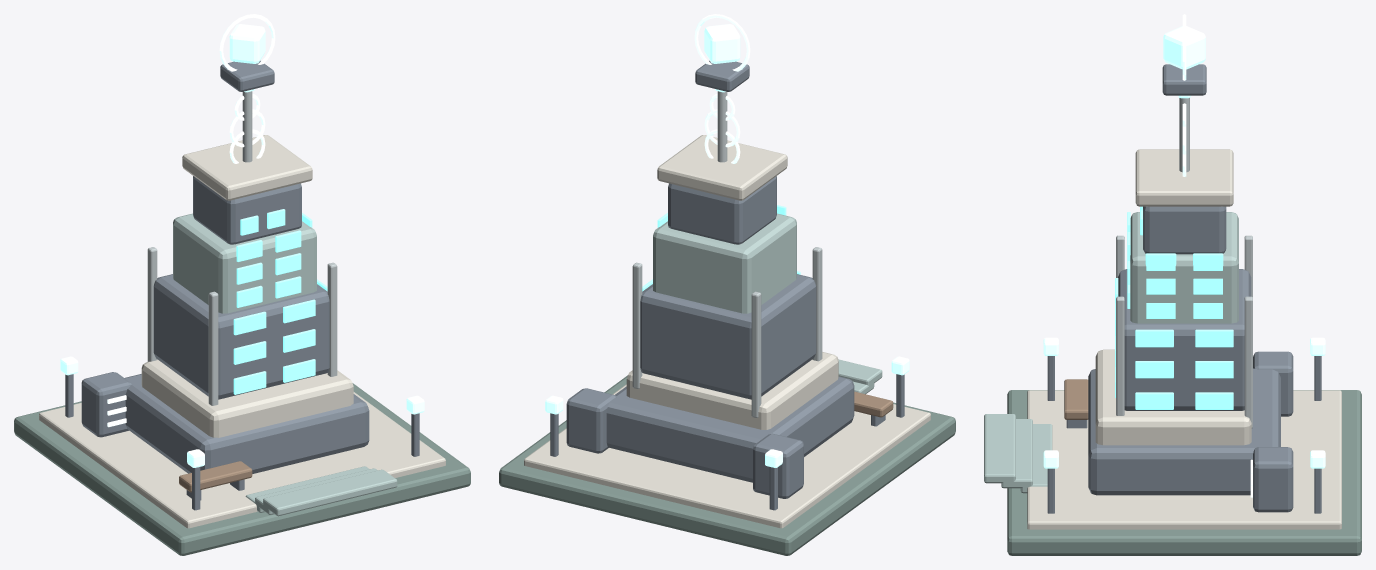
Rendered from 02-cyan-tower.glb.
The picture shows the model from 3 angles, left to right: view 1: azimuth 30°, elevation 25°; view 2: azimuth 150°, elevation 25°; view 3: azimuth 270°, elevation 25°; orthographic projection. The views are drawn at different scales.
Visible parts, largest first — view 1: CyanTower_Plaza, CyanTower_Plinth, Tower_Core_Lower, Tower_Base, Tower_Lobby, Tower_Core_Mid, Tower_Crown, Tower_Core_Upper, CyanTower_Step_2, Tower_Server_0, CyanTower_BeaconCube, CyanTower_BeaconBase (+14 smaller); view 2: CyanTower_Plaza, Tower_Core_Lower, CyanTower_Plinth, Tower_Base, Tower_Core_Mid, Tower_Lobby, Tower_Crown, Tower_Core_Upper, Tower_Server_1, Tower_Server_0, Tower_Brace_-1.18_1.05, CyanTower_BeaconCube (+7 smaller); view 3: CyanTower_Plaza, CyanTower_Plinth, Tower_Base, Tower_Core_Lower, Tower_Lobby, Tower_Core_Mid, Tower_Crown, Tower_Core_Upper, Tower_Server_1, CyanTower_Step_2, CyanTower_BeaconCube, Tower_Server_0 (+19 smaller).
Boxes of the visible parts, x1,y1,x2,y2 form: CyanTower_Plaza: (39, 392, 445, 528); CyanTower_Plinth: (14, 383, 470, 555); Tower_Core_Lower: (153, 274, 329, 399); Tower_Base: (124, 374, 369, 473); Tower_Lobby: (141, 359, 353, 437); Tower_Core_Mid: (173, 213, 316, 313); Tower_Crown: (182, 135, 312, 200); Tower_Core_Upper: (193, 176, 301, 244); CyanTower_Step_2: (263, 469, 397, 516); Tower_Server_0: (81, 372, 131, 437); CyanTower_BeaconCube: (229, 24, 265, 63); CyanTower_BeaconBase: (220, 60, 274, 91); CyanTower_Plaza: (524, 384, 930, 528); Tower_Core_Lower: (640, 274, 816, 399); CyanTower_Plinth: (499, 375, 955, 555); Tower_Base: (606, 376, 854, 482); Tower_Core_Mid: (653, 213, 796, 313); Tower_Lobby: (626, 352, 838, 429); Tower_Crown: (657, 135, 787, 200); Tower_Core_Upper: (668, 176, 776, 244); Tower_Server_1: (566, 388, 616, 453); Tower_Server_0: (753, 433, 803, 498); Tower_Brace_-1.18_1.05: (751, 291, 761, 417); CyanTower_BeaconCube: (704, 24, 740, 63); CyanTower_Plaza: (1027, 390, 1341, 529); CyanTower_Plinth: (1007, 390, 1361, 555); Tower_Base: (1088, 368, 1280, 495); Tower_Core_Lower: (1118, 269, 1251, 410); Tower_Lobby: (1095, 349, 1251, 445); Tower_Core_Mid: (1130, 212, 1238, 323); Tower_Crown: (1135, 149, 1233, 206); Tower_Core_Upper: (1143, 206, 1226, 254); Tower_Server_1: (1253, 447, 1293, 512); CyanTower_Step_2: (984, 414, 1015, 483); CyanTower_BeaconCube: (1163, 26, 1205, 69); Tower_Server_0: (1253, 351, 1293, 416).
Bounding box in the file's own units: 5.8 × 8.46 × 6.18.
